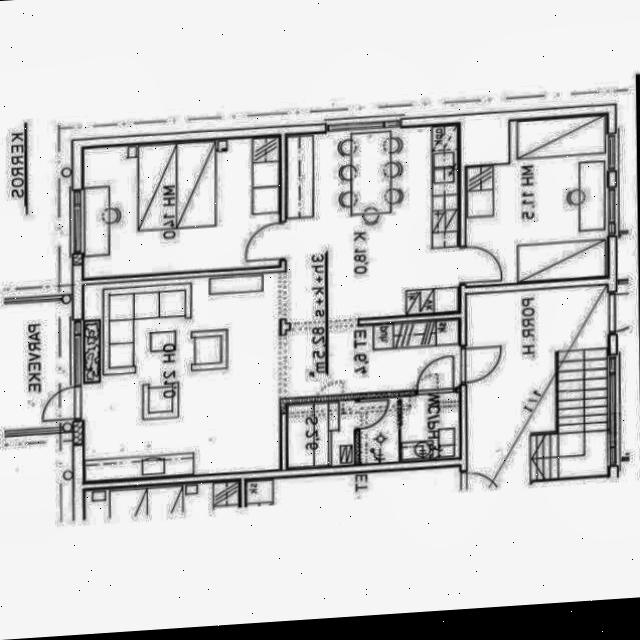room: (75, 135, 288, 279), (465, 112, 607, 286), (358, 390, 464, 463), (284, 396, 358, 467)
